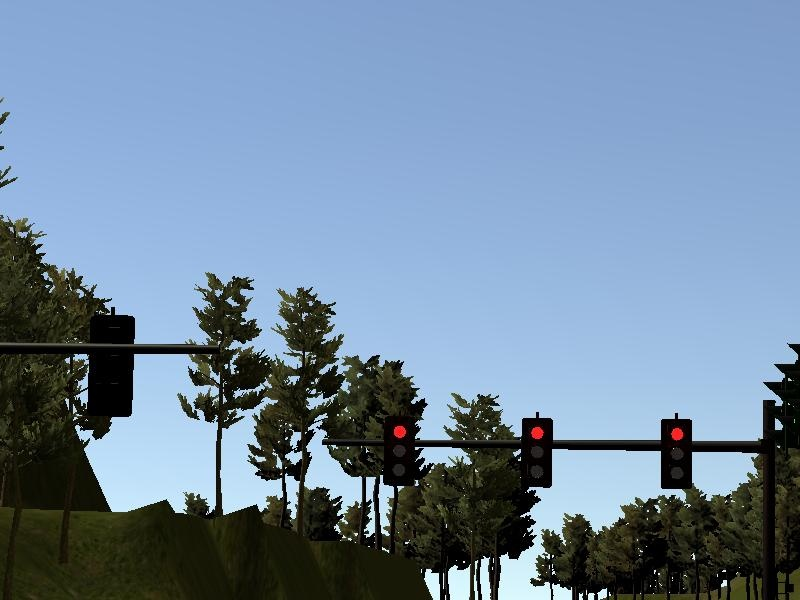red: (658, 413, 696, 488), (519, 412, 555, 488), (381, 413, 417, 488)
